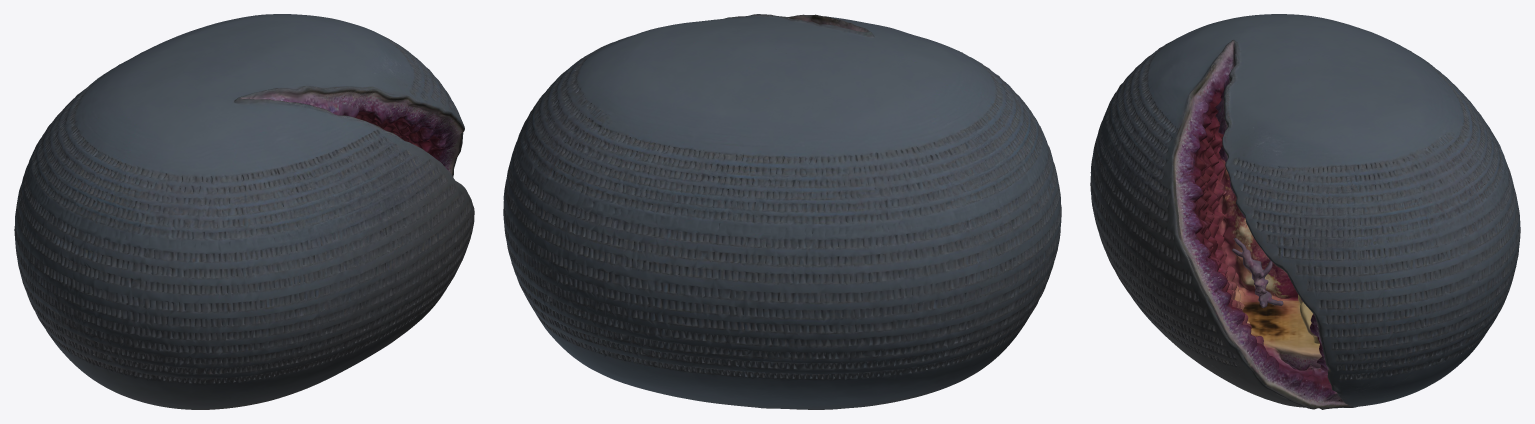
File: 28d-ntt.glb
3 renders of one model, left to right at view 1: azimuth 30°, elevation 25°; view 2: azimuth 150°, elevation 25°; view 3: azimuth 270°, elevation 25°, orthographic. The views are drawn at different scales.
Parts seen in each view (by area): view 1: tripo_node_21fd479e-1a21-49f8-bb61-7f49a8150416; view 2: tripo_node_21fd479e-1a21-49f8-bb61-7f49a8150416; view 3: tripo_node_21fd479e-1a21-49f8-bb61-7f49a8150416.
Boxes of the visible parts, <box> form: tripo_node_21fd479e-1a21-49f8-bb61-7f49a8150416: <box>14,14,474,409</box>; tripo_node_21fd479e-1a21-49f8-bb61-7f49a8150416: <box>503,14,1061,409</box>; tripo_node_21fd479e-1a21-49f8-bb61-7f49a8150416: <box>1090,14,1520,409</box>.
Bounding box in the file's own units: 1 × 0.6541 × 0.8727.
1 material, 1 textured.
